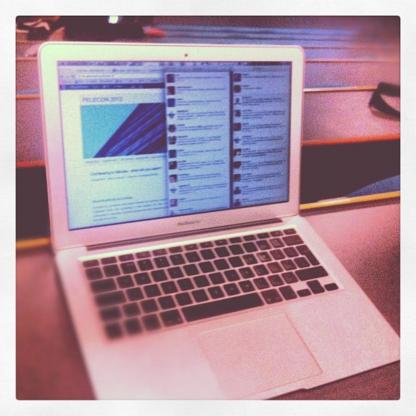board: (17, 23, 385, 411)
